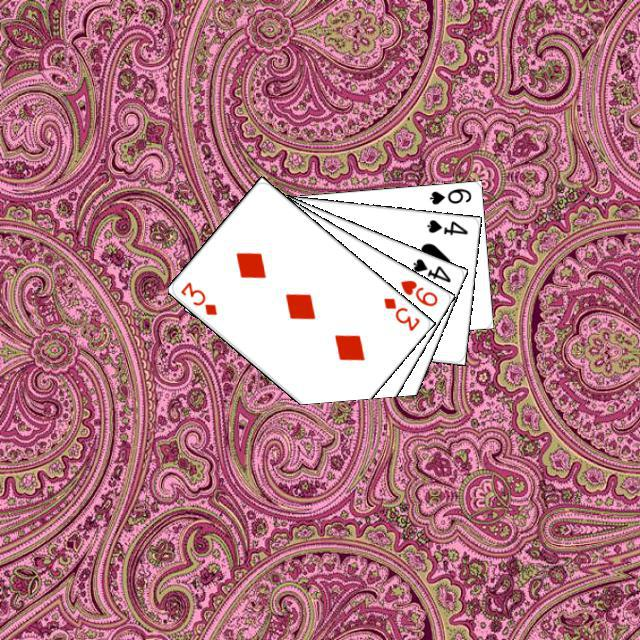3d: (378, 293, 422, 333), (175, 277, 219, 317)
4s: (408, 253, 452, 284), (422, 215, 469, 237)
6s: (425, 184, 473, 206)
9h: (395, 275, 440, 308)
